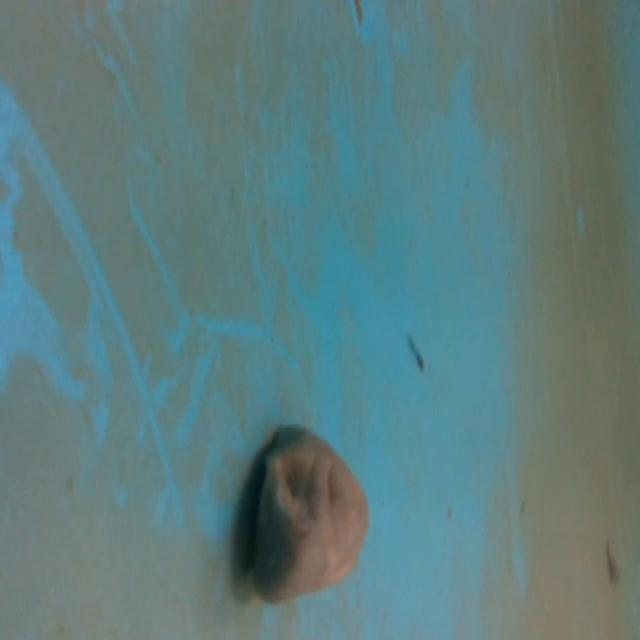rock: (235, 415, 373, 608)
